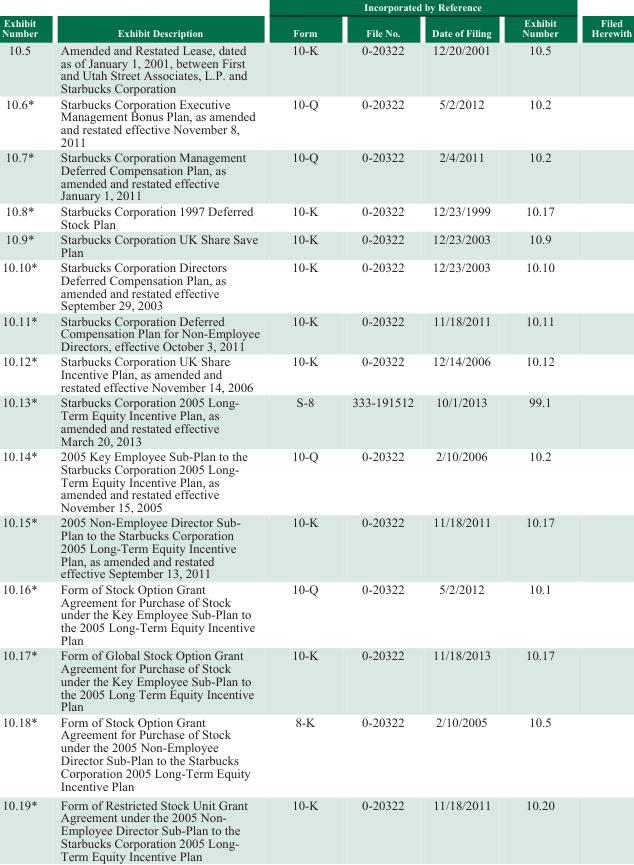table: (0, 0, 631, 862)
table column: (48, 0, 275, 862), (334, 0, 422, 862), (422, 0, 506, 862), (506, 0, 574, 862), (275, 0, 334, 862), (574, 0, 631, 862), (0, 0, 48, 862)
table column header: (0, 0, 631, 40)
table row: (0, 713, 631, 794), (0, 794, 631, 862), (0, 580, 631, 647), (0, 448, 631, 514), (0, 514, 631, 580), (0, 647, 631, 713), (0, 40, 631, 95), (0, 95, 631, 149), (0, 258, 631, 312), (0, 394, 631, 448), (0, 149, 631, 202), (0, 312, 631, 353), (0, 353, 631, 394), (0, 202, 631, 230), (0, 230, 631, 258), (0, 14, 631, 40), (0, 0, 631, 14)
table spanning cell: (48, 0, 275, 40), (275, 0, 574, 14), (574, 0, 631, 40), (0, 0, 48, 40)
